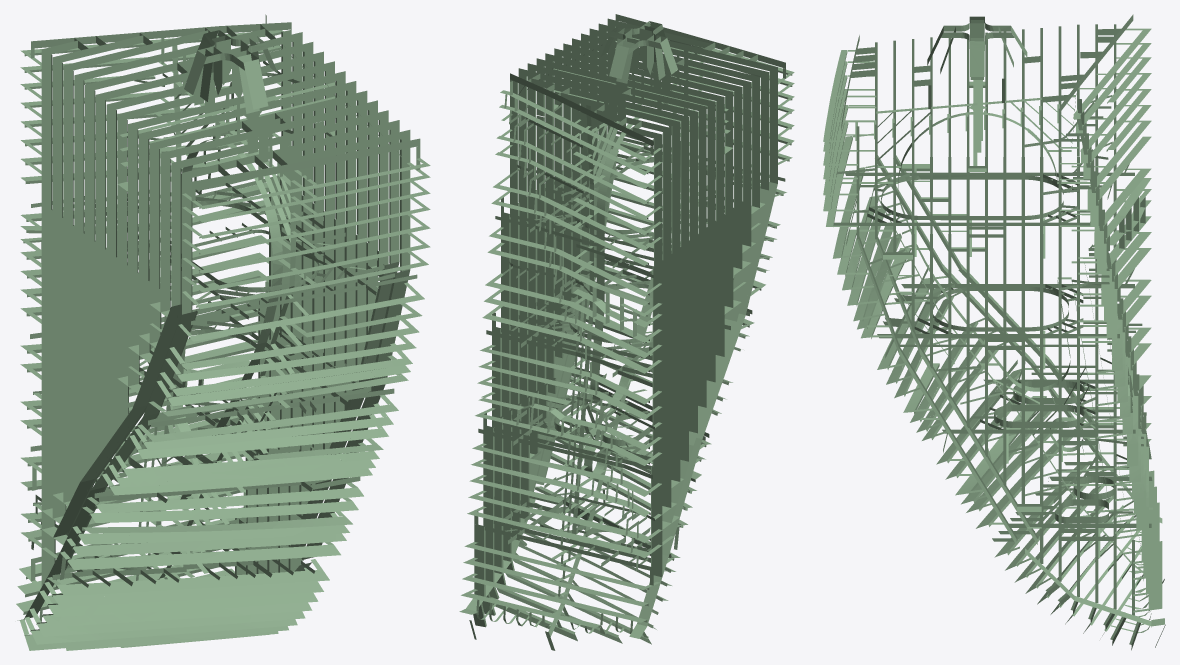
File: CLEAN_SLOP_TK_SB.glb
3 renders of one model, left to right at view 1: azimuth 30°, elevation 25°; view 2: azimuth 150°, elevation 25°; view 3: azimuth 270°, elevation 25°, orthographic. The views are drawn at different scales.
Visible parts, largest first — view 1: ST_OuterShellxSlopTankSxL36xWeb_001002-IA_679x150x12.5x34_NV, ST_OuterShellxSlopTankSxL33xWeb_001002-TW_645x12.5+150x25_NV, ST_OuterShellxSlopTankSxL34xWeb_001002-IA_669x150x12.5x24_NV, ST_OuterShellxSlopTankSxL32xWeb_001002-TW_645x13.5+150x27_NV, ST_OuterShellxSlopTankSxL39xWeb_001002-IA_573.5x150x11x28.5_, ST_OuterShellxSlopTankSxL40xWeb_001002-IA_572.5x150x11x27.5_, ST_OuterShellxSlopTankSxL37xWeb_001002-IA_673.5x150x12.5x28., ST_OuterShellxSlopTankSxL37A2xWeb_001002-IA_668.5x150x12.5x2, ST_OuterShellxSlopTankSxL31xWeb_001002-TW_645x13.5+150x30_NV, ST_OuterShellxSlopTankSxL44xWeb_001002-IA_520x125x11x25_NVA3, ST_OuterShellxSlopTankSxL42xWeb_001002-IA_521.5x150x11x26.5_, ST_OuterShellxSlopTankSxL42A1xWeb_001002-IA_524x150x11x29_NV (+83 smaller); view 2: ST_UDxSlopTankSxDL19_001002-FB_340x22.5_NVA36_1993, ST_UDxSlopTankSxDL18_001002-FB_340x22.5_NVA36_1993, ST_UDxSlopTankSxDL21_001002-FB_340x22.5_NVA36_1993, ST_UDxSlopTankSxDL20_001002-FB_340x22.5_NVA36_1993, ST_SideTransBHDxBHD51SxWeb_015002-TW_595x12.5+150x27_NVA32_1, ST_UDxSlopTankSxDL22_001002-FB_340x22.5_NVA36_1993, ST_SideTransBHDxBHD51SxWeb_026002-TW_495x11+150x28.5_NVA32_1, ST_SideTransBHDxBHD51SxWeb_023003-TW_495x11+150x28.5_NVA32_1, ST_SideTransBHDxBHD51SxWeb_049002-TW_495x11+150x25.5_NVA32_1, ST_SideTransBHDxBHD51SxWeb_054002-TW_495x11+150x25.5_NVA32_1, ST_SideTransBHDxBHD51SxWeb_039002-TW_495x11+150x25.5_NVA32_1, ST_SideTransBHDxBHD51SxWeb_042002-TW_495x11+150x25.5_NVA32_1 (+35 smaller); view 3: ST_OuterShellxSlopTankSxL38xWeb_001002-IA_673.5x150x12.5x28., FP_SupportStoolxSlopTankS_013001-T_720x40_NVD36_2014, ST_LBHDxNo6CenterTankSxL62xWeb_236002-IA_361x100x11x16_NVA32, ST_LBHDxNo6CenterTankSxL61xWeb_236002-IA_360x100x11x15_NVA32.
Part boxes in pixels (x1,y1,x2,y2): ST_OuterShellxSlopTankSxL36xWeb_001002-IA_679x150x12.5x34_NV: (117,547,301,567); ST_OuterShellxSlopTankSxL33xWeb_001002-TW_645x12.5+150x25_NV: (103,584,284,604); ST_OuterShellxSlopTankSxL34xWeb_001002-IA_669x150x12.5x24_NV: (109,572,290,593); ST_OuterShellxSlopTankSxL32xWeb_001002-TW_645x13.5+150x27_NV: (98,595,278,614); ST_OuterShellxSlopTankSxL39xWeb_001002-IA_573.5x150x11x28.5_: (139,503,319,521); ST_OuterShellxSlopTankSxL40xWeb_001002-IA_572.5x150x11x27.5_: (145,490,325,510); ST_OuterShellxSlopTankSxL37xWeb_001002-IA_673.5x150x12.5x28.: (122,536,306,554); ST_OuterShellxSlopTankSxL37A2xWeb_001002-IA_668.5x150x12.5x2: (127,527,310,543); ST_OuterShellxSlopTankSxL31xWeb_001002-TW_645x13.5+150x30_NV: (94,605,272,624); ST_OuterShellxSlopTankSxL44xWeb_001002-IA_520x125x11x25_NVA3: (184,431,351,455); ST_OuterShellxSlopTankSxL42xWeb_001002-IA_521.5x150x11x26.5_: (164,463,337,484); ST_OuterShellxSlopTankSxL42A1xWeb_001002-IA_524x150x11x29_NV: (170,454,341,474); ST_UDxSlopTankSxDL19_001002-FB_340x22.5_NVA36_1993: (545,75,664,109); ST_UDxSlopTankSxDL18_001002-FB_340x22.5_NVA36_1993: (537,80,655,114); ST_UDxSlopTankSxDL21_001002-FB_340x22.5_NVA36_1993: (563,65,682,99); ST_UDxSlopTankSxDL20_001002-FB_340x22.5_NVA36_1993: (554,70,673,104); ST_SideTransBHDxBHD51SxWeb_015002-TW_595x12.5+150x27_NVA32_1: (651,466,662,537); ST_UDxSlopTankSxDL22_001002-FB_340x22.5_NVA36_1993: (572,60,691,94); ST_SideTransBHDxBHD51SxWeb_026002-TW_495x11+150x28.5_NVA32_1: (671,382,680,451); ST_SideTransBHDxBHD51SxWeb_023003-TW_495x11+150x28.5_NVA32_1: (662,389,671,457); ST_SideTransBHDxBHD51SxWeb_049002-TW_495x11+150x25.5_NVA32_1: (706,227,715,295); ST_SideTransBHDxBHD51SxWeb_054002-TW_495x11+150x25.5_NVA32_1: (724,214,733,282); ST_SideTransBHDxBHD51SxWeb_039002-TW_495x11+150x25.5_NVA32_1: (662,260,671,328); ST_SideTransBHDxBHD51SxWeb_042002-TW_495x11+150x25.5_NVA32_1: (671,253,680,321); ST_OuterShellxSlopTankSxL38xWeb_001002-IA_673.5x150x12.5x28.: (966,415,1030,480); FP_SupportStoolxSlopTankS_013001-T_720x40_NVD36_2014: (969,41,984,76); ST_LBHDxNo6CenterTankSxL62xWeb_236002-IA_361x100x11x16_NVA32: (1082,45,1137,105); ST_LBHDxNo6CenterTankSxL61xWeb_236002-IA_360x100x11x15_NVA32: (1084,59,1137,119).
Size of the model in its own units: 10.48 by 31.37 by 16.79.
